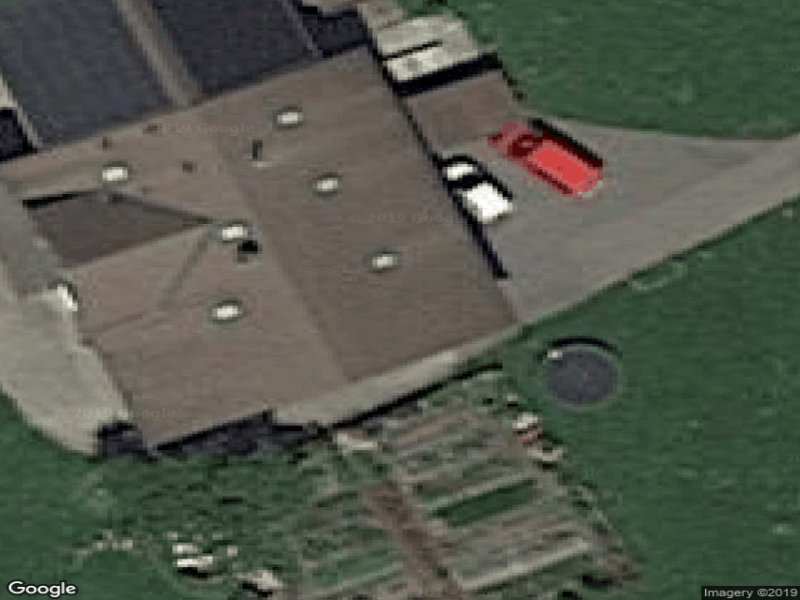pv: (1, 1, 317, 150)
